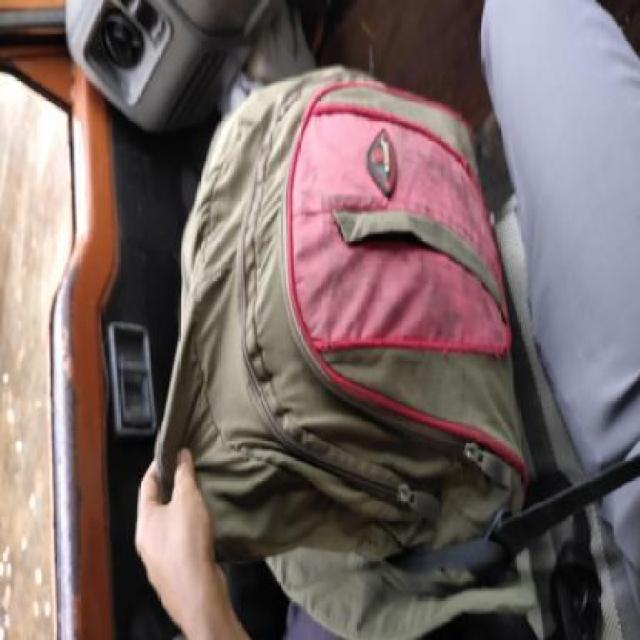backpack: (151, 60, 535, 605)
